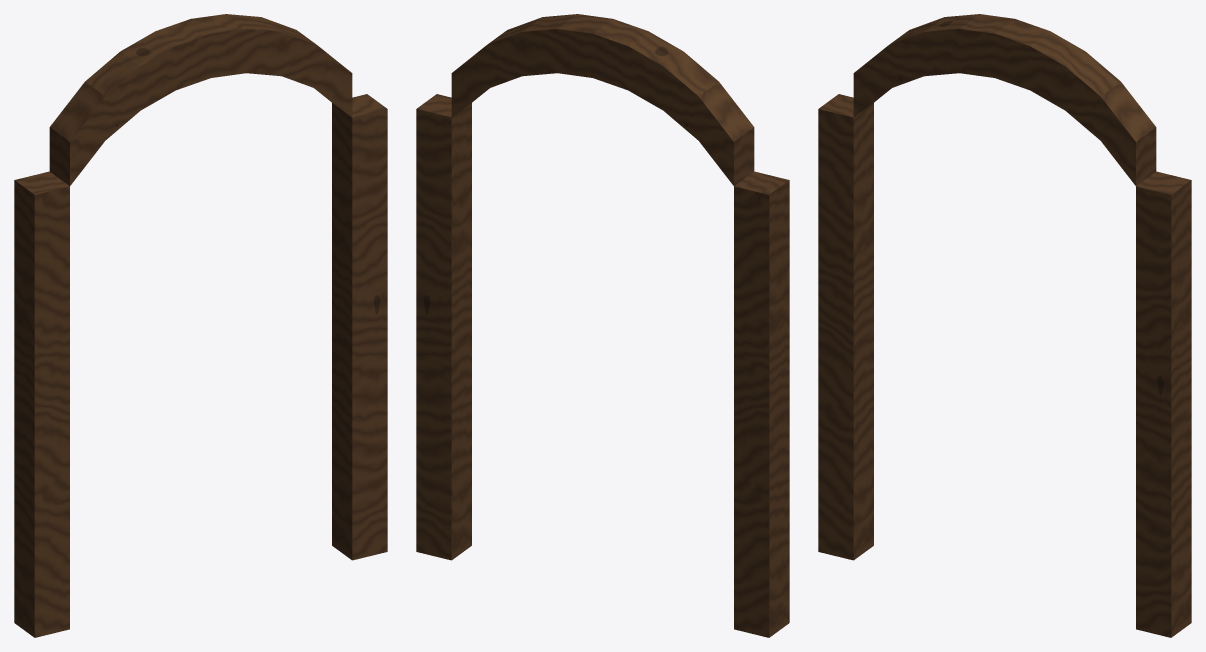
File: arch_1p2m.glb
The picture shows the model from 3 angles, left to right: view 1: azimuth 30°, elevation 25°; view 2: azimuth 150°, elevation 25°; view 3: azimuth 330°, elevation 25°; orthographic projection.
Visible parts, largest first — view 1: post_l, post_r, arch_1p2m_band; view 2: post_l, post_r, arch_1p2m_band; view 3: post_r, post_l, arch_1p2m_band.
Part boxes in pixels (x1,y1,x2,y2): post_l: [14, 171, 69, 637]; post_r: [332, 94, 387, 560]; arch_1p2m_band: [49, 14, 352, 185]; post_l: [734, 171, 789, 637]; post_r: [416, 94, 471, 560]; arch_1p2m_band: [451, 14, 754, 185]; post_r: [1136, 171, 1191, 637]; post_l: [818, 94, 873, 560]; arch_1p2m_band: [853, 14, 1156, 185].
Size of the model in its own units: 1.5 by 2.28 by 0.15.
Materials: 1 (1 with a texture image).
